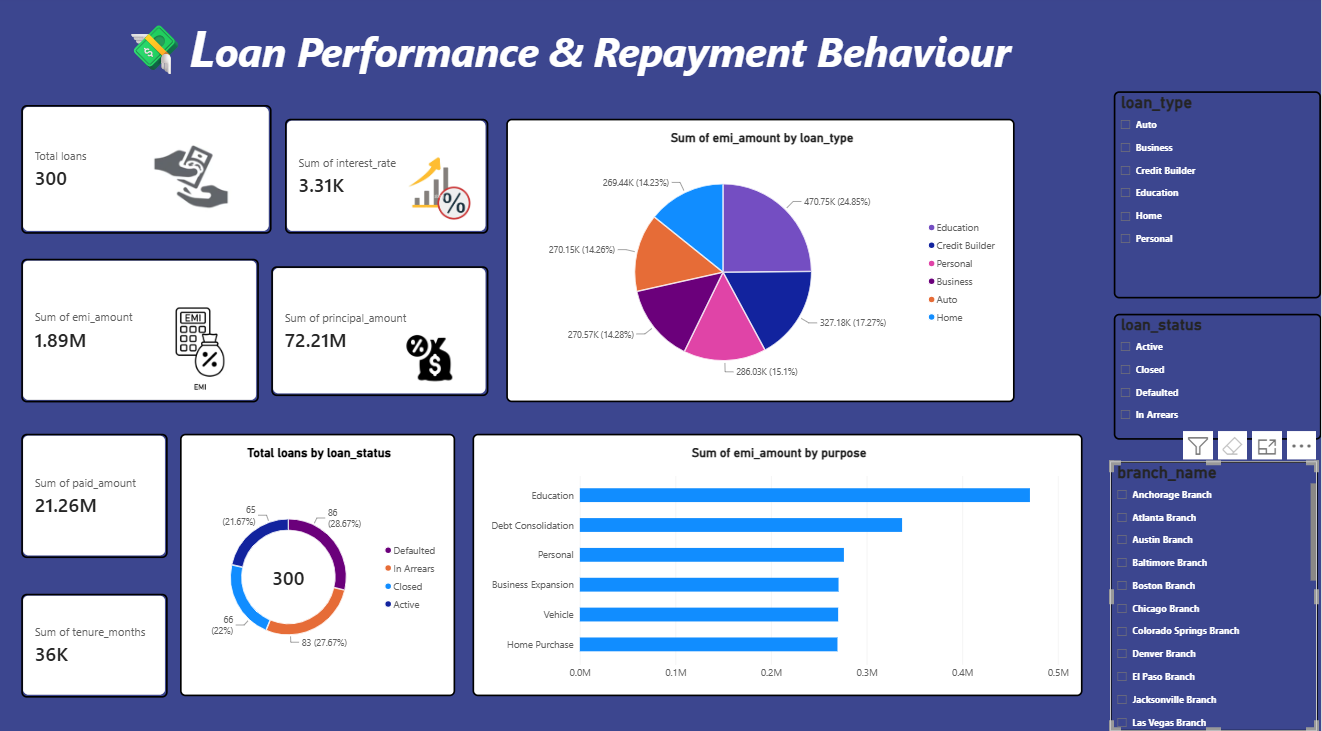

This screenshot's page, from the dashboard's own definition file:
{"tool":"powerbi","page":{"name":"💸Loan Performance","canvas":[1920,1080],"ordinal":3},"visuals":[{"type":"textbox","box":[162.9,27.1,1388,105],"z":0},{"type":"cardVisual","fields":{"Data":["accounts.Total loans"]},"box":[38,160,362,186],"z":1000},{"type":"cardVisual","fields":{"Data":["Sum(loans(1).emi_amount)"]},"box":[38,382,344,208],"z":2000},{"type":"cardVisual","fields":{"Data":["Sum(loans(1).principal_amount)"]},"box":[400,392,314,188],"z":3000},{"type":"cardVisual","fields":{"Data":["Sum(loans(1).interest_rate)"]},"box":[420,180,294,166],"z":4000},{"type":"cardVisual","fields":{"Data":["Sum(loans(1).tenure_months)"]},"box":[38,866,212,150],"z":5000},{"type":"cardVisual","fields":{"Data":["Sum(loan_payments(1).paid_amount)"]},"box":[38,636,212,180],"z":6000},{"type":"donutChart","fields":{"Category":["loans(1).loan_status"],"Y":["accounts.Total loans"]},"box":[268,636,398,380],"z":7000},{"type":"pieChart","fields":{"Category":["loans(1).loan_type"],"Y":["Sum(loans(1).emi_amount)"]},"box":[740,180,736,410],"z":8000},{"type":"clusteredBarChart","fields":{"Category":["loans(1).purpose"],"Y":["Sum(loans(1).emi_amount)"]},"box":[692,636,883.1,380],"z":9000},{"type":"slicer","fields":{"Values":["loans(1).loan_type"]},"box":[1620,140,300,300],"z":10000},{"type":"slicer","fields":{"Values":["loans(1).loan_status"]},"box":[1619.6,461.5,300.4,182.8],"z":11000},{"type":"slicer","fields":{"Values":["branches(1).branch_name"]},"box":[1614.2,675,300.4,390.9],"z":12000},{"type":"image","box":[210,188.3,150,150],"z":13000},{"type":"image","box":[218.3,430,150,150],"z":14000},{"type":"image","box":[583.3,213.3,124,134],"z":15000},{"type":"image","box":[556.7,486.7,150,78.3],"z":16000}]}

Visuals, with their boxes in screenshot pixels (x1, y1, x2, y2), scaled from the page's 1920x1080 canvas onto the 1322x731 screenshot:
textbox: left=112, top=18, right=1068, bottom=89
cardVisual - accounts.Total loans: left=26, top=108, right=275, bottom=234
cardVisual - Sum(loans(1).emi_amount): left=26, top=259, right=263, bottom=399
cardVisual - Sum(loans(1).principal_amount): left=275, top=265, right=492, bottom=393
cardVisual - Sum(loans(1).interest_rate): left=289, top=122, right=492, bottom=234
cardVisual - Sum(loans(1).tenure_months): left=26, top=586, right=172, bottom=688
cardVisual - Sum(loan_payments(1).paid_amount): left=26, top=430, right=172, bottom=552
donutChart - loans(1).loan_status x accounts.Total loans: left=185, top=430, right=459, bottom=688
pieChart - loans(1).loan_type x Sum(loans(1).emi_amount): left=510, top=122, right=1016, bottom=399
clusteredBarChart - loans(1).purpose x Sum(loans(1).emi_amount): left=476, top=430, right=1085, bottom=688
slicer - loans(1).loan_type: left=1115, top=95, right=1321, bottom=298
slicer - loans(1).loan_status: left=1115, top=312, right=1321, bottom=436
slicer - branches(1).branch_name: left=1111, top=457, right=1318, bottom=721
image: left=145, top=127, right=248, bottom=229
image: left=150, top=291, right=254, bottom=393
image: left=402, top=144, right=487, bottom=235
image: left=383, top=329, right=487, bottom=382
